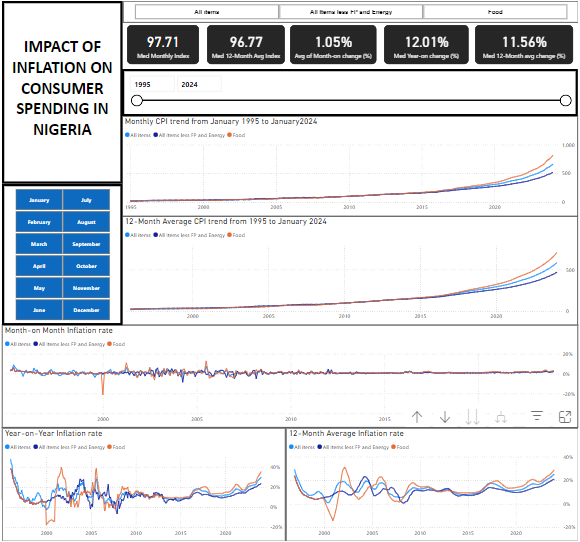

The dashboard page shown, as its layout file describes it:
{"tool":"powerbi","page":{"name":"Overview","canvas":[1280,1200],"ordinal":0},"visuals":[{"type":"lineChart","title":"12-Month Average CPI trend from 1995 to January 2024","fields":{"Y":["Sum(Table.12-Month Average Index)"],"Series":["Table.Index Category"],"Category":["Table.Date.Variation.Date Hierarchy.Year","Table.Date.Variation.Date Hierarchy.Month"]},"box":[267.5,57.5,992.5,262.5],"z":0},{"type":"lineChart","title":"Monthly CPI trend from January 1995 to January2024","fields":{"Series":["Table.Index Category"],"Category":["Table.Date.Variation.Date Hierarchy.Year","Table.Date.Variation.Date Hierarchy.Month"],"Y":["Sum(Table.Monthly Index)"]},"box":[17.5,340,1242.5,265],"z":1000},{"type":"lineChart","title":"Month-on Month Inflation rate","fields":{"Y":["Sum(Table.Month-on change (%))"],"Series":["Table.Index Category"],"Category":["Table.Date.Variation.Date Hierarchy.Year","Table.Date.Variation.Date Hierarchy.Month"]},"box":[17.5,622.5,1242.5,277.5],"z":2000},{"type":"lineChart","title":"Year-on-Year Inflation rate","fields":{"Series":["Table.Index Category"],"Category":["Table.Date.Variation.Date Hierarchy.Year","Table.Date.Variation.Date Hierarchy.Month"],"Y":["Sum(Table.Year-on change (%))"]},"box":[20,920,1240,260],"z":3000},{"type":"ChicletSlicer1448559807354","fields":{"Category":["Table.Index Category"]},"box":[268.3,0,1011.7,46.7],"z":4000},{"type":"textbox","box":[17.5,0,250,340],"z":5000}]}

Visuals, with their boxes in screenshot pixels (x1, y1, x2, y2), scaled from the page's 1280x1200 canvas onto the 580x542 screenshot:
"12-Month Average CPI trend from 1995 to January 2024" lineChart: [121,26,571,145]
"Monthly CPI trend from January 1995 to January2024" lineChart: [8,154,571,273]
"Month-on Month Inflation rate" lineChart: [8,281,571,406]
"Year-on-Year Inflation rate" lineChart: [9,416,571,533]
ChicletSlicer1448559807354 - Table.Index Category: [122,0,579,21]
textbox: [8,0,121,154]
